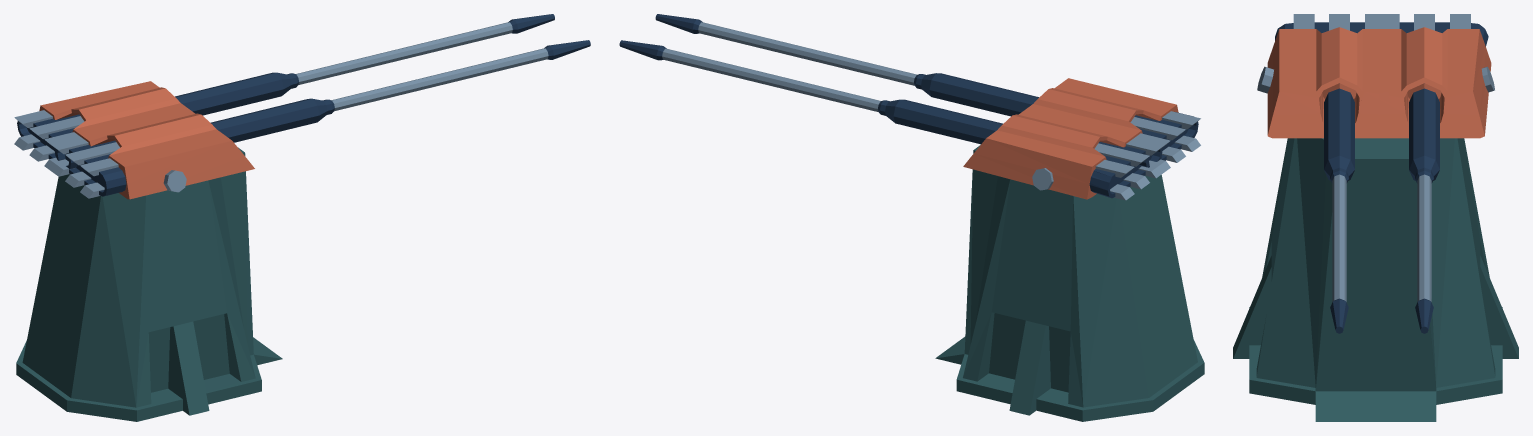
Rendered from Cannon-RRRR-2.fbx.
The picture shows the model from 3 angles, left to right: view 1: azimuth 30°, elevation 25°; view 2: azimuth 150°, elevation 25°; view 3: azimuth 270°, elevation 25°; orthographic projection. The views are drawn at different scales.
Parts seen in each view (by area): view 1: russian4:base, russian4:attack; view 2: russian4:base, russian4:attack; view 3: russian4:base, russian4:attack.
Part boxes in pixels (x1=…): russian4:base: x1=16, y1=147, x2=282, y2=421; russian4:attack: x1=14, y1=14, x2=590, y2=199; russian4:base: x1=935, y1=145, x2=1204, y2=421; russian4:attack: x1=619, y1=14, x2=1200, y2=200; russian4:base: x1=1233, y1=138, x2=1518, y2=421; russian4:attack: x1=1257, y1=14, x2=1494, y2=333.
Size of the model in its own units: 2909 by 1330 by 1137.
